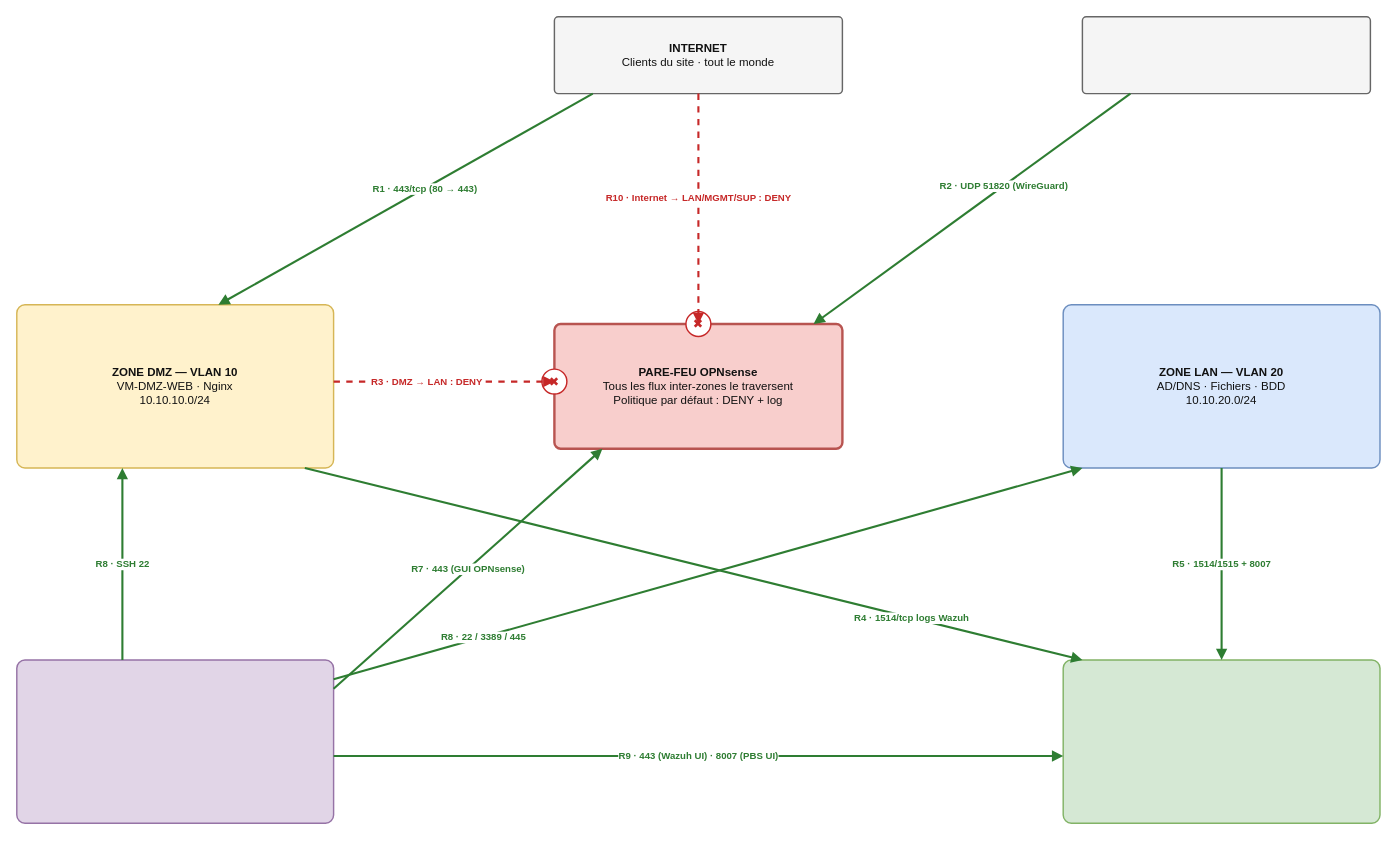
Some shapes in this 1398 by 841 pixel diagram are drawn without their labels. Here are the shapes that lost their labels. From the top down, the centre of each, then its label:
pixel 1226 55: Administrateur distant Poste perso + client WireGuard
pixel 175 741: ZONE MANAGEMENT — VLAN 99 VM-ADMIN (bastion) 10.10.99.0/24
pixel 1221 741: ZONE SUPERVISION — VLAN 30 Wazuh · Backup (PBS) 10.10.30.0/24
